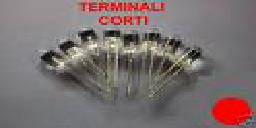LED: (103, 28, 123, 105), (34, 49, 64, 83), (143, 28, 162, 59), (78, 26, 94, 49)
